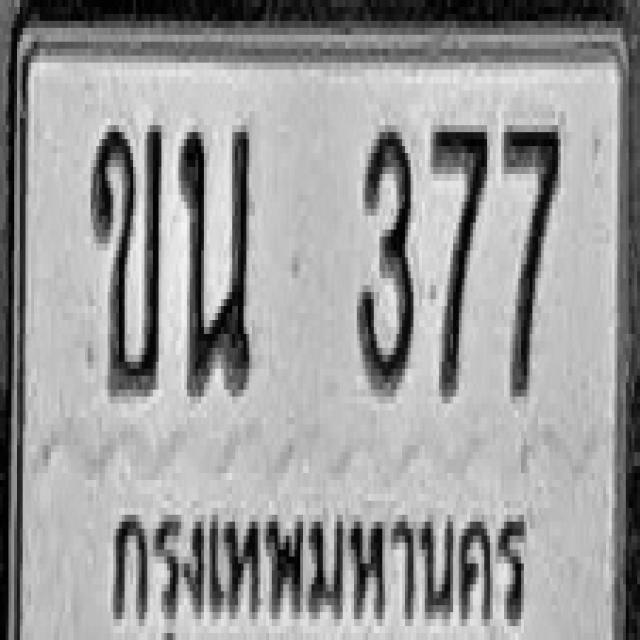11KhorKhai: (90, 115, 162, 393)
3: (357, 125, 413, 390)
34NorNu: (178, 118, 252, 390)
7: (431, 118, 487, 397), (503, 115, 559, 393)
Bangkok: (100, 485, 538, 640)
